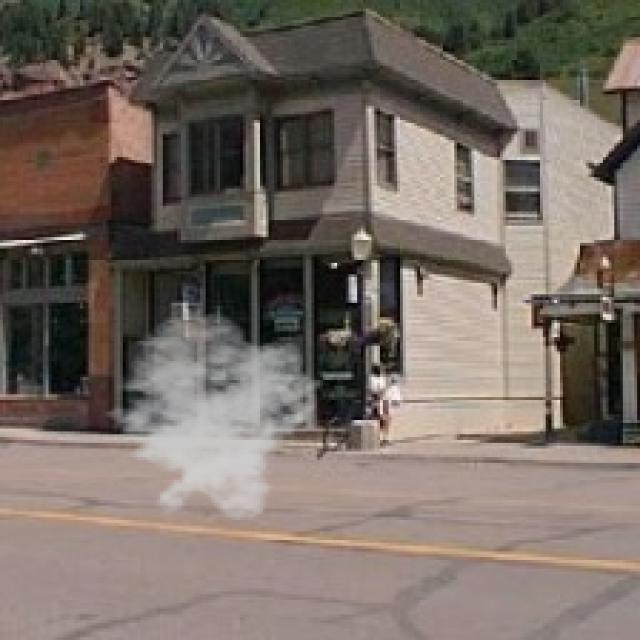Smoke: (91, 312, 326, 522)
